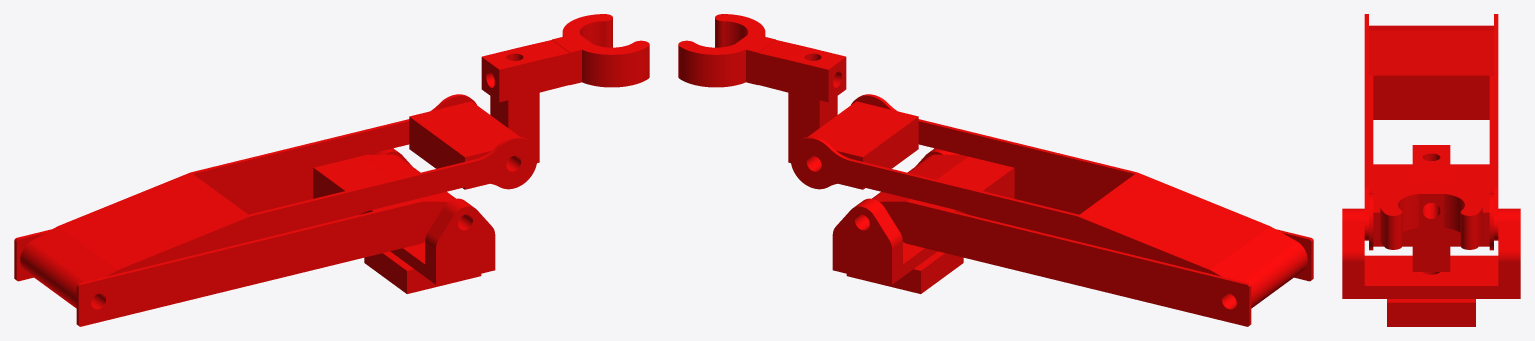
The model's file is r5s_arm.dae.
3 views of the same model, side by side, from view 1: azimuth 30°, elevation 25°; view 2: azimuth 150°, elevation 25°; view 3: azimuth 270°, elevation 25° (orthographic). The views are drawn at different scales.
Parts seen in each view (by area): view 1: body3_link, body2_link, body4_link, body1_link, body6_link, body5_link, body0_link_yaw; view 2: body3_link, body2_link, body4_link, body1_link, body6_link, body5_link, body0_link_yaw; view 3: body3_link, body1_link, body6_link, body4_link, body2_link, body0_link_yaw, body5_link.
Part boxes in pixels (box(x1,y1,x2,y2)): body3_link: box(20, 94, 537, 308); body2_link: box(14, 154, 460, 326); body4_link: box(409, 92, 539, 189); body1_link: box(368, 148, 495, 284); body6_link: box(552, 14, 649, 87); body5_link: box(481, 40, 569, 102); body0_link_yaw: box(364, 251, 481, 293); body3_link: box(790, 94, 1307, 308); body2_link: box(867, 154, 1313, 326); body4_link: box(788, 92, 918, 189); body1_link: box(832, 148, 959, 284); body6_link: box(678, 14, 775, 87); body5_link: box(758, 40, 846, 102); body0_link_yaw: box(846, 251, 963, 293); body3_link: box(1369, 25, 1493, 250); body1_link: box(1342, 208, 1520, 298); body6_link: box(1380, 180, 1482, 249); body4_link: box(1373, 181, 1489, 271); body2_link: box(1364, 14, 1498, 240); body0_link_yaw: box(1387, 299, 1475, 326); body5_link: box(1412, 145, 1450, 205).
Bounding box in the file's own units: 0.7866 × 0.2 × 0.2493.
